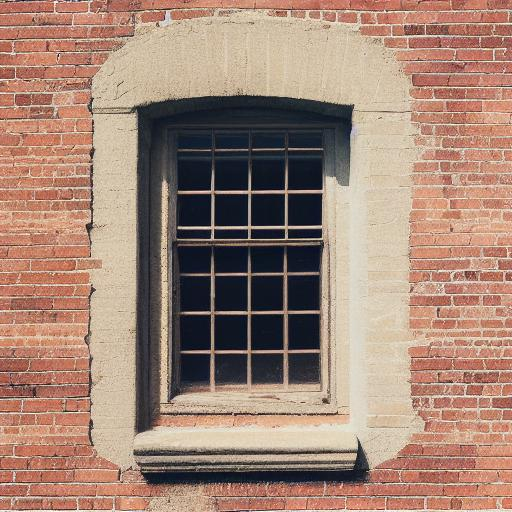Window: (88, 14, 419, 479)
